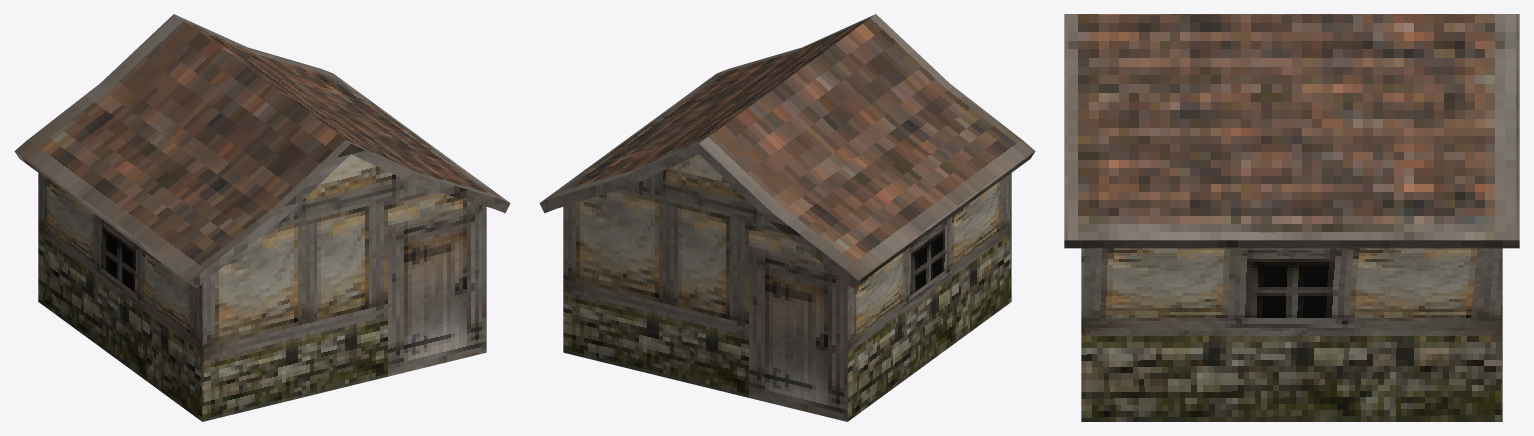
File: medieval_house.glb
The picture shows the model from 3 angles, left to right: view 1: azimuth 30°, elevation 25°; view 2: azimuth 150°, elevation 25°; view 3: azimuth 270°, elevation 25°; orthographic projection. The views are drawn at different scales.
Visible parts, largest first — view 1: medieval_house-col; view 2: medieval_house-col; view 3: medieval_house-col.
Part boxes in pixels (box(x1,y1,x2,y2)): medieval_house-col: box(14, 14, 510, 421); medieval_house-col: box(539, 14, 1035, 421); medieval_house-col: box(1064, 14, 1519, 421).
Size of the model in its own units: 11.22 by 8.35 by 10.8.
Materials: 1 (1 with a texture image).
